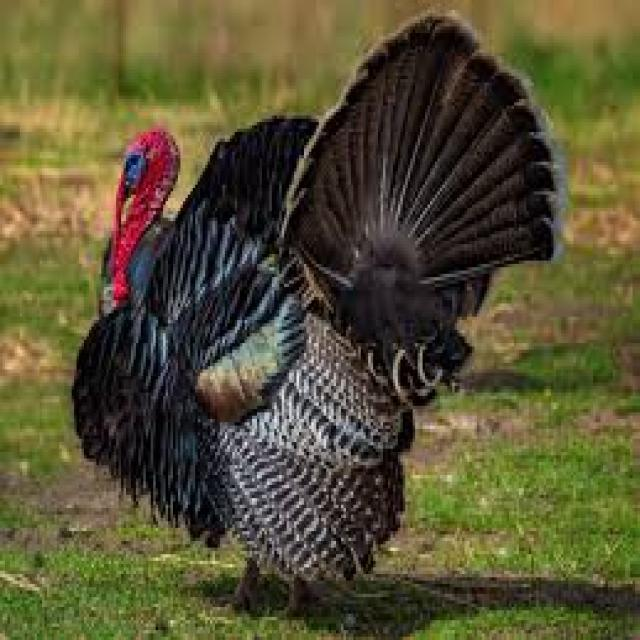Turkey: (57, 9, 570, 606)
